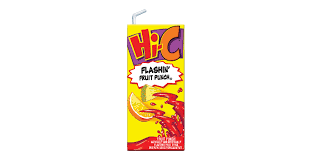Juice_Box: (127, 23, 186, 151)
